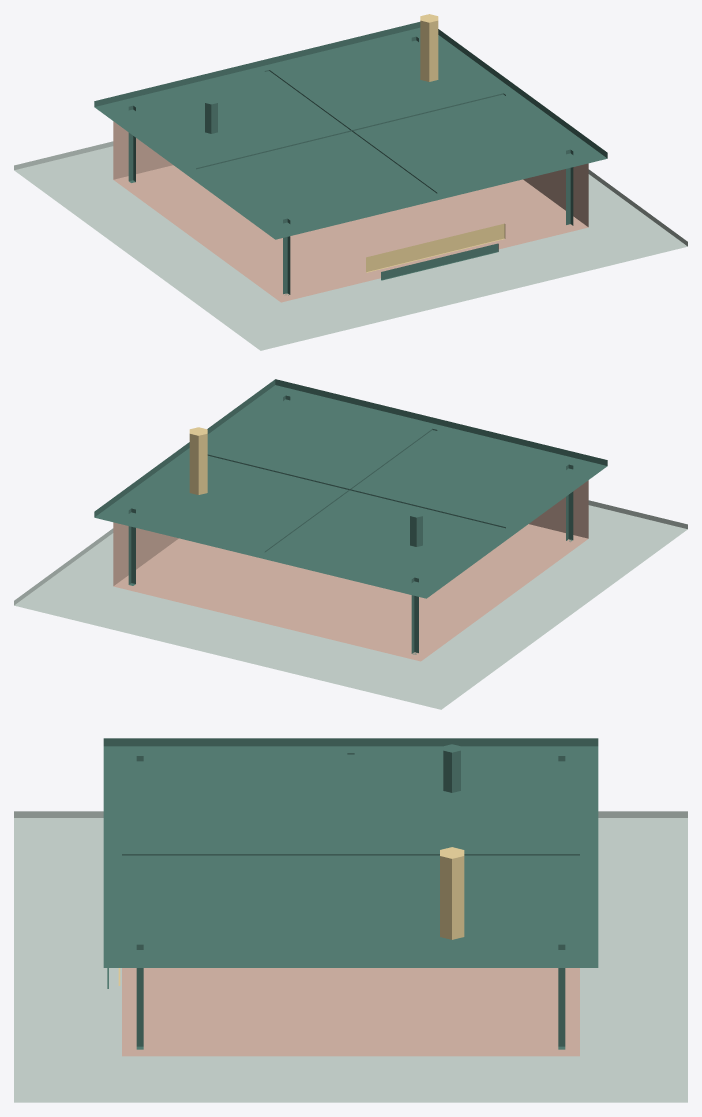
The model's file is cement_plant.glb.
The picture shows the model from 3 angles, top to bottom: view 1: azimuth 30°, elevation 25°; view 2: azimuth 150°, elevation 25°; view 3: azimuth 270°, elevation 25°; orthographic projection. The views are drawn at different scales.
Visible parts, largest first — view 1: Roof, Foundation, Walls, Details, Frame; view 2: Roof, Foundation, Walls, Frame, Details; view 3: Roof, Foundation, Walls, Details, Frame.
Part boxes in pixels (bbox=[...]): Roof: bbox=[94, 22, 607, 239]; Foundation: bbox=[14, 141, 687, 350]; Walls: bbox=[113, 121, 588, 302]; Details: bbox=[205, 14, 505, 280]; Frame: bbox=[128, 36, 573, 295]; Roof: bbox=[94, 379, 607, 598]; Foundation: bbox=[14, 500, 687, 709]; Walls: bbox=[113, 480, 588, 661]; Frame: bbox=[128, 395, 573, 654]; Details: bbox=[189, 427, 422, 546]; Roof: bbox=[103, 738, 598, 967]; Foundation: bbox=[14, 811, 687, 1102]; Walls: bbox=[122, 968, 579, 1056]; Details: bbox=[107, 744, 464, 988]; Frame: bbox=[122, 753, 579, 1049].
Size of the model in its own units: 60 by 18.1 by 60.
